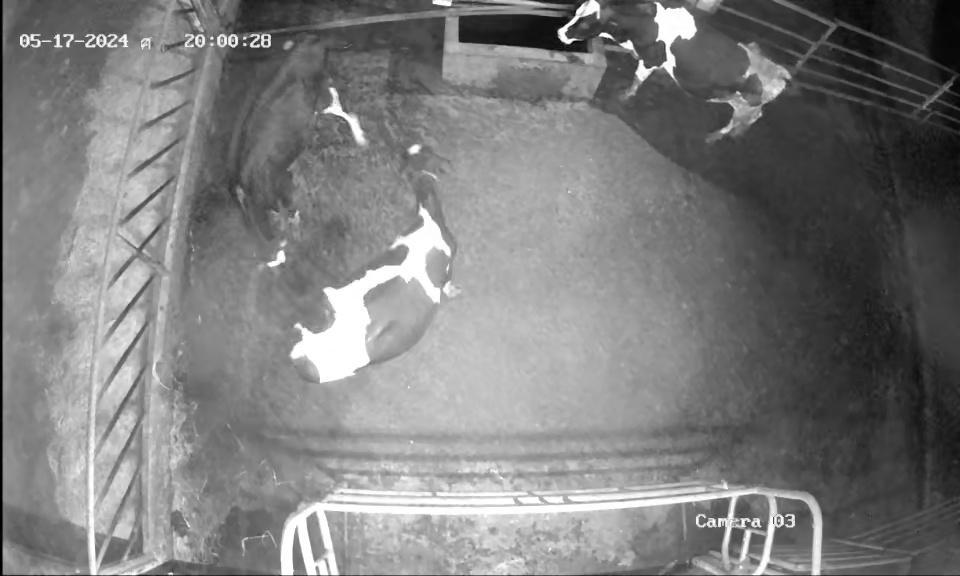drink: (544, 0, 638, 88)
